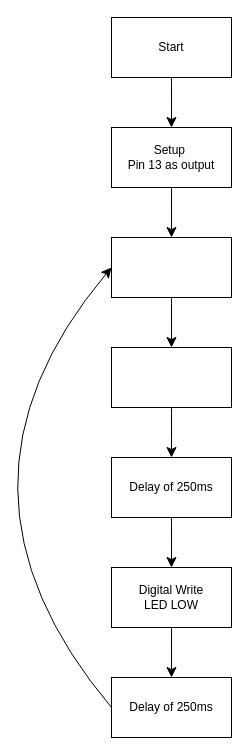
This 249x755 diagram has some shape labels left out. Here are the shapes that lost their labels. From the top down, the centre of each, then its label:
[171,267]: Loop
[171,377]: Digital Write LED HIGH
